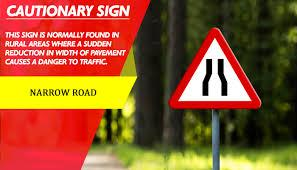narrow_road: (167, 25, 262, 108)
